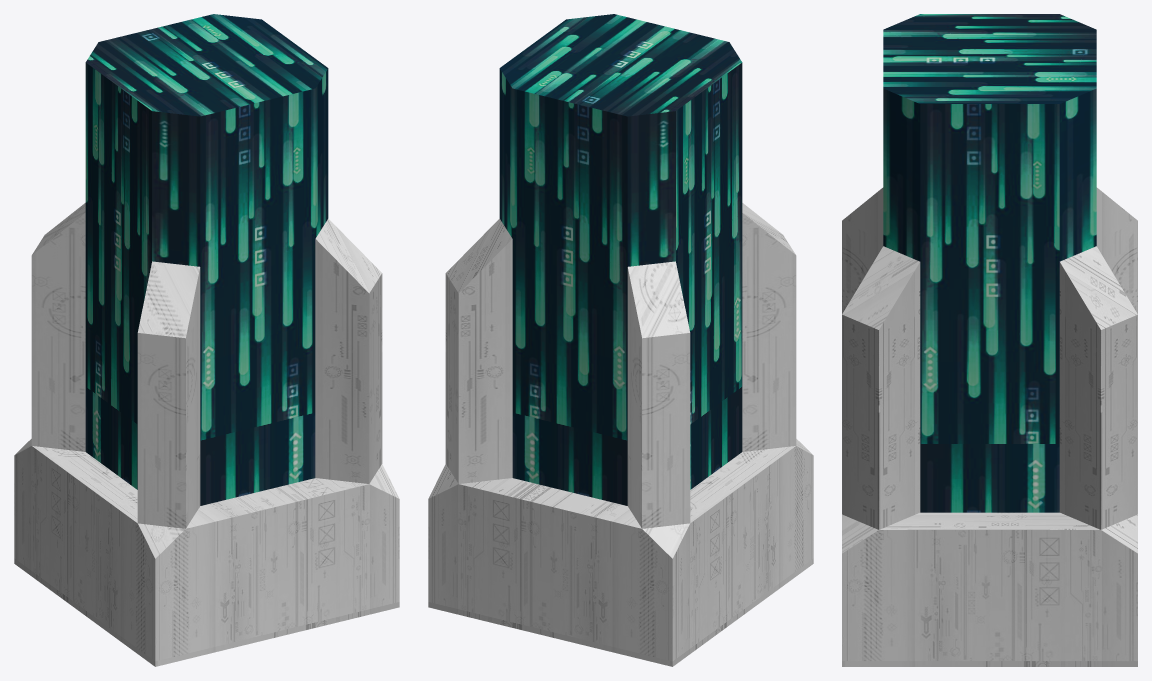
Rendered from Block09.fbx.
The picture shows the model from 3 angles, left to right: view 1: azimuth 30°, elevation 25°; view 2: azimuth 150°, elevation 25°; view 3: azimuth 270°, elevation 25°; orthographic projection. The views are drawn at different scales.
Parts seen in each view (by area): view 1: Cube.008; view 2: Cube.008; view 3: Cube.008.
Boxes of the visible parts, x1=… form: Cube.008: x1=14, y1=14, x2=399, y2=666; Cube.008: x1=428, y1=14, x2=813, y2=666; Cube.008: x1=842, y1=14, x2=1137, y2=666.
Size of the model in its own units: 200 by 200 by 407.
